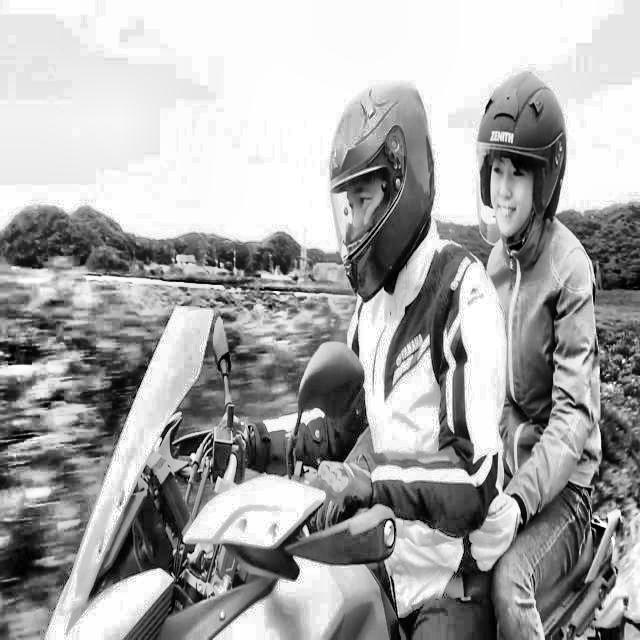Helmet: (324, 74, 440, 308), (472, 61, 570, 256)
